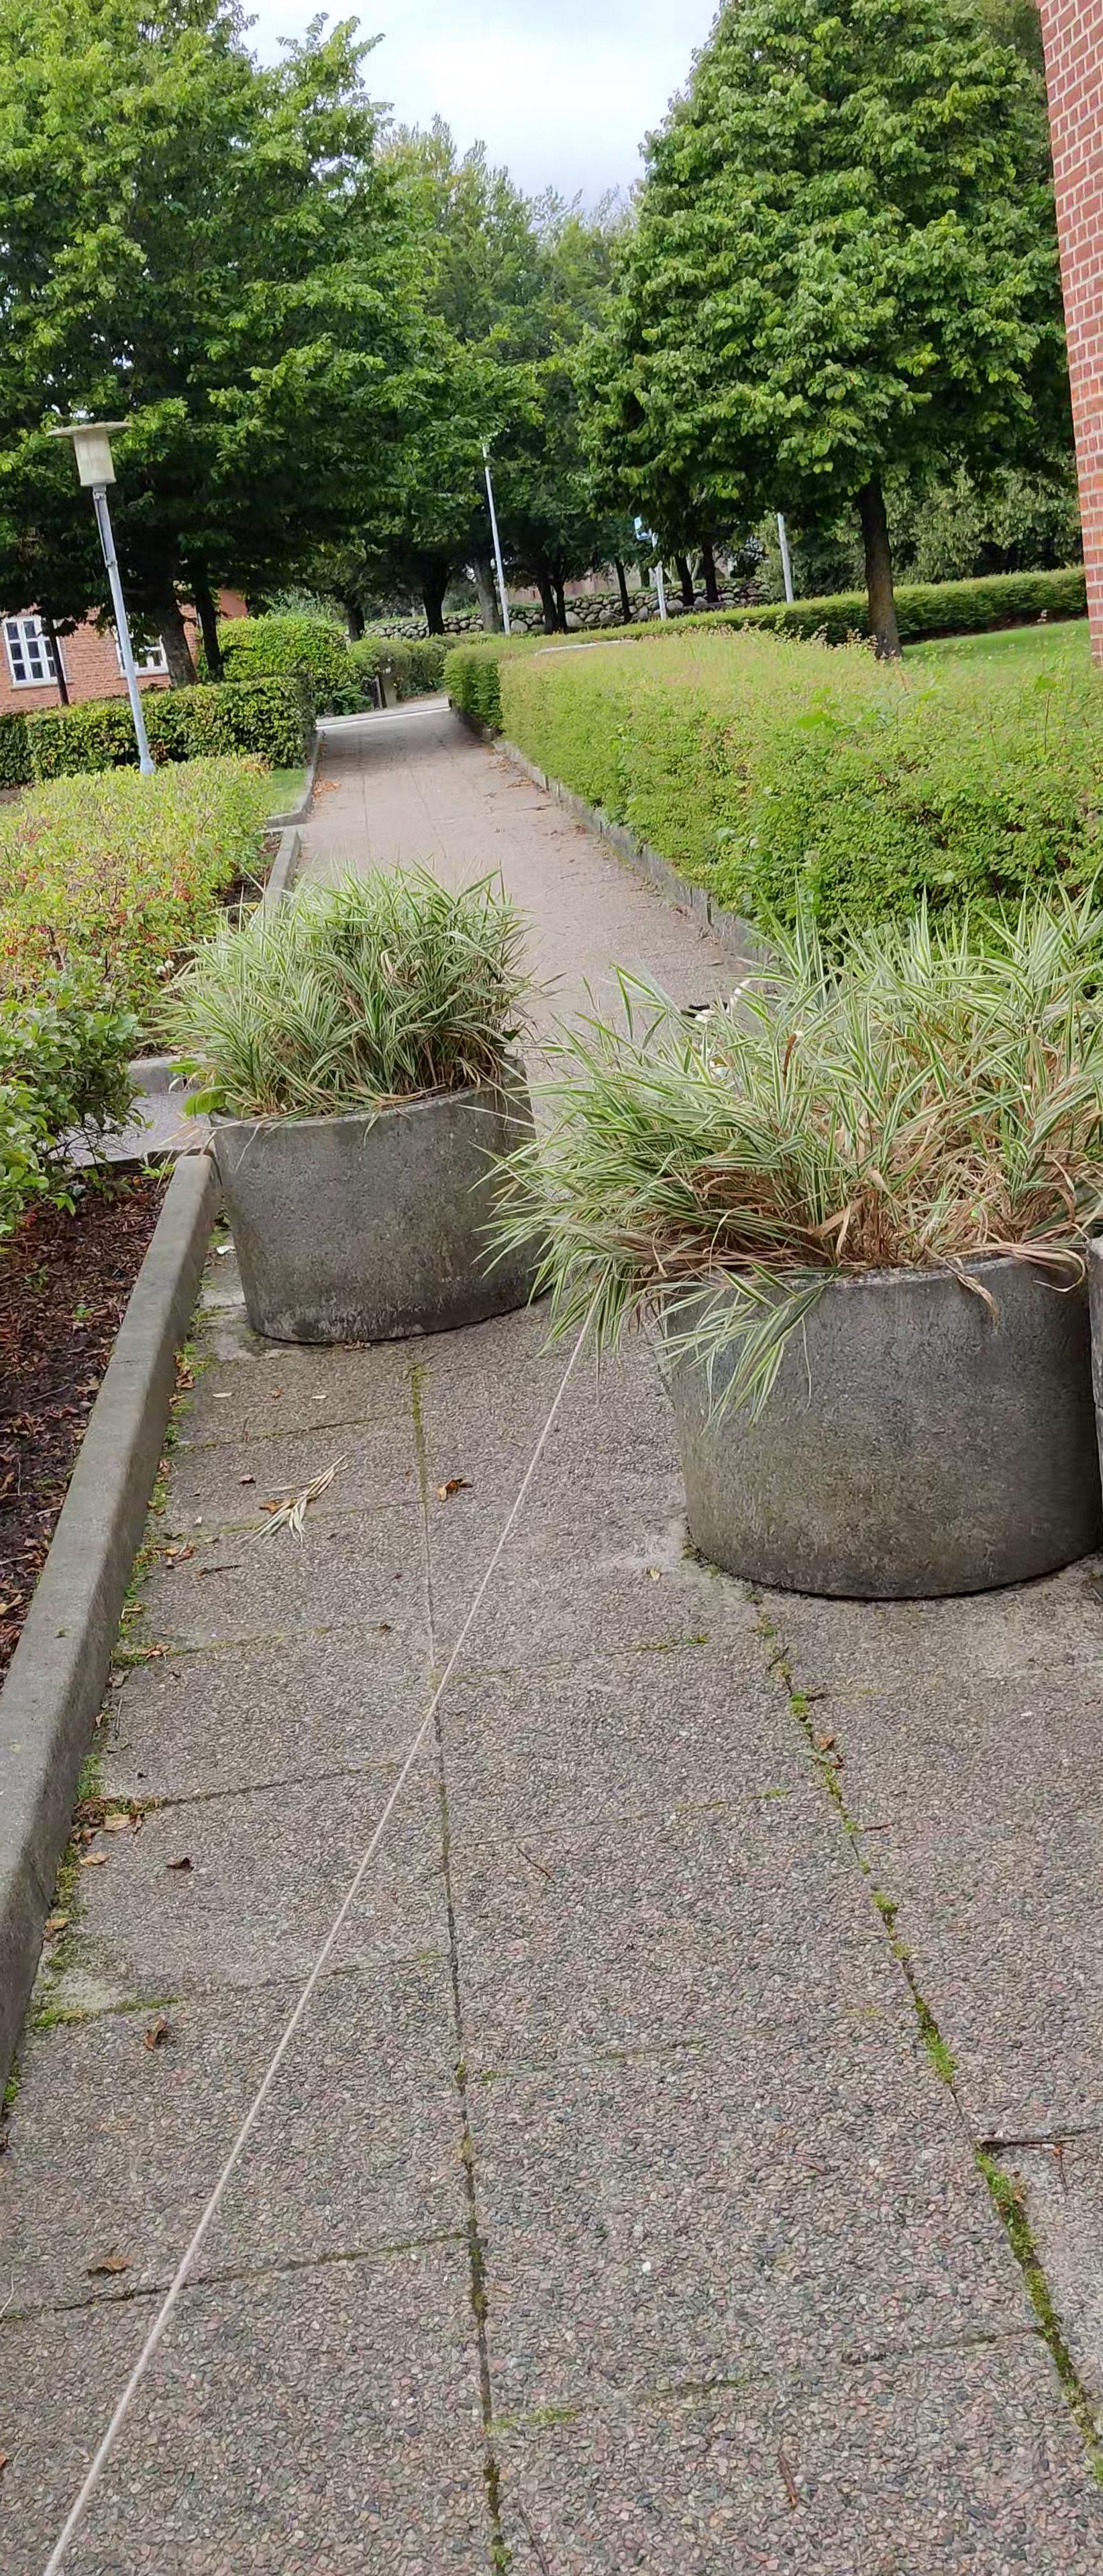Dog: (676, 973, 751, 1038)
